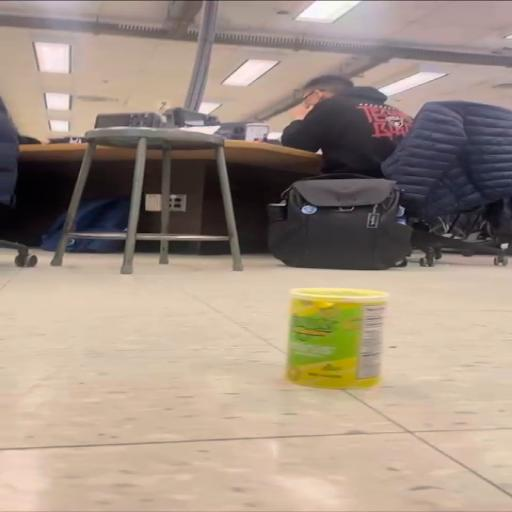pringle can: (286, 285, 384, 392)
